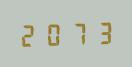seven: (66, 19, 89, 46)
three: (90, 19, 113, 45)
two: (18, 21, 41, 47)
zero: (42, 20, 65, 47)
